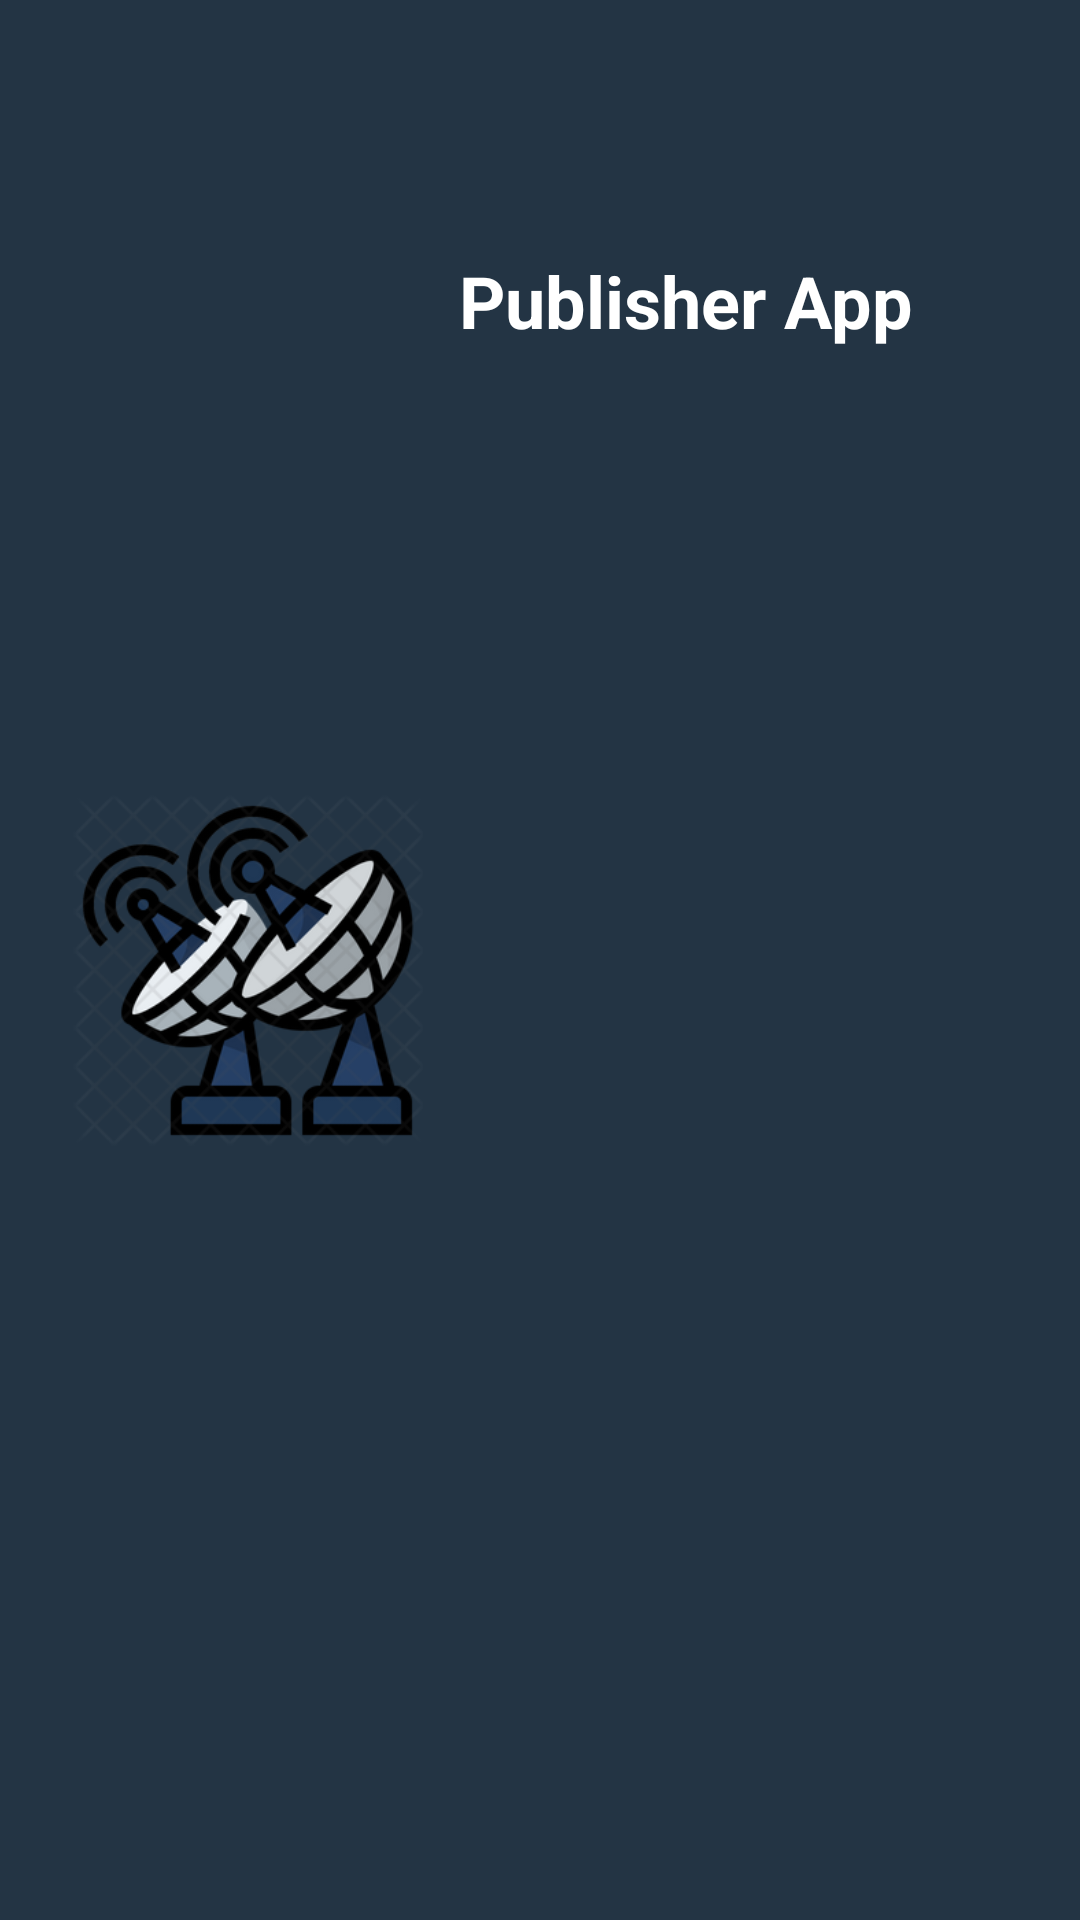

Icon click points for this 1080px×1920px phone screenshot, format [x,y]:
tele: [248,970]
